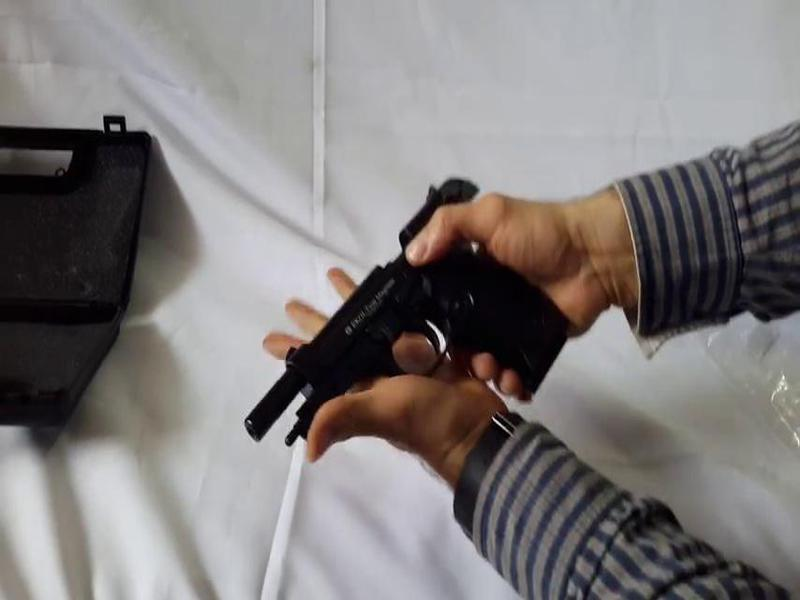Pistola: (228, 164, 582, 472)
